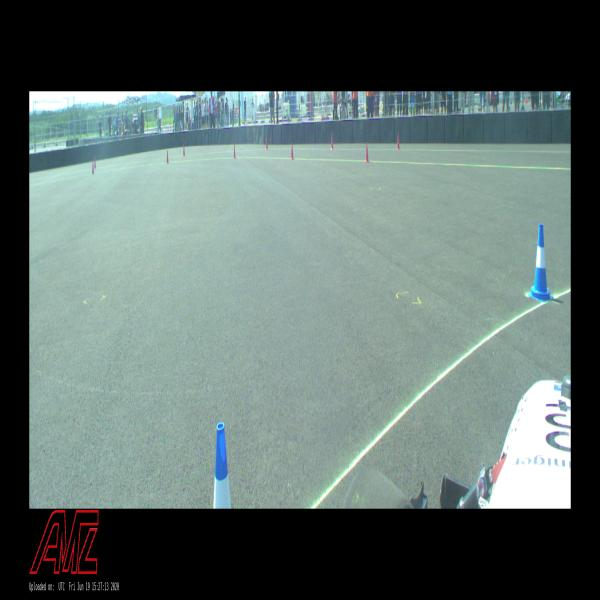blue_cone: (528, 224, 554, 302), (213, 423, 232, 508)
